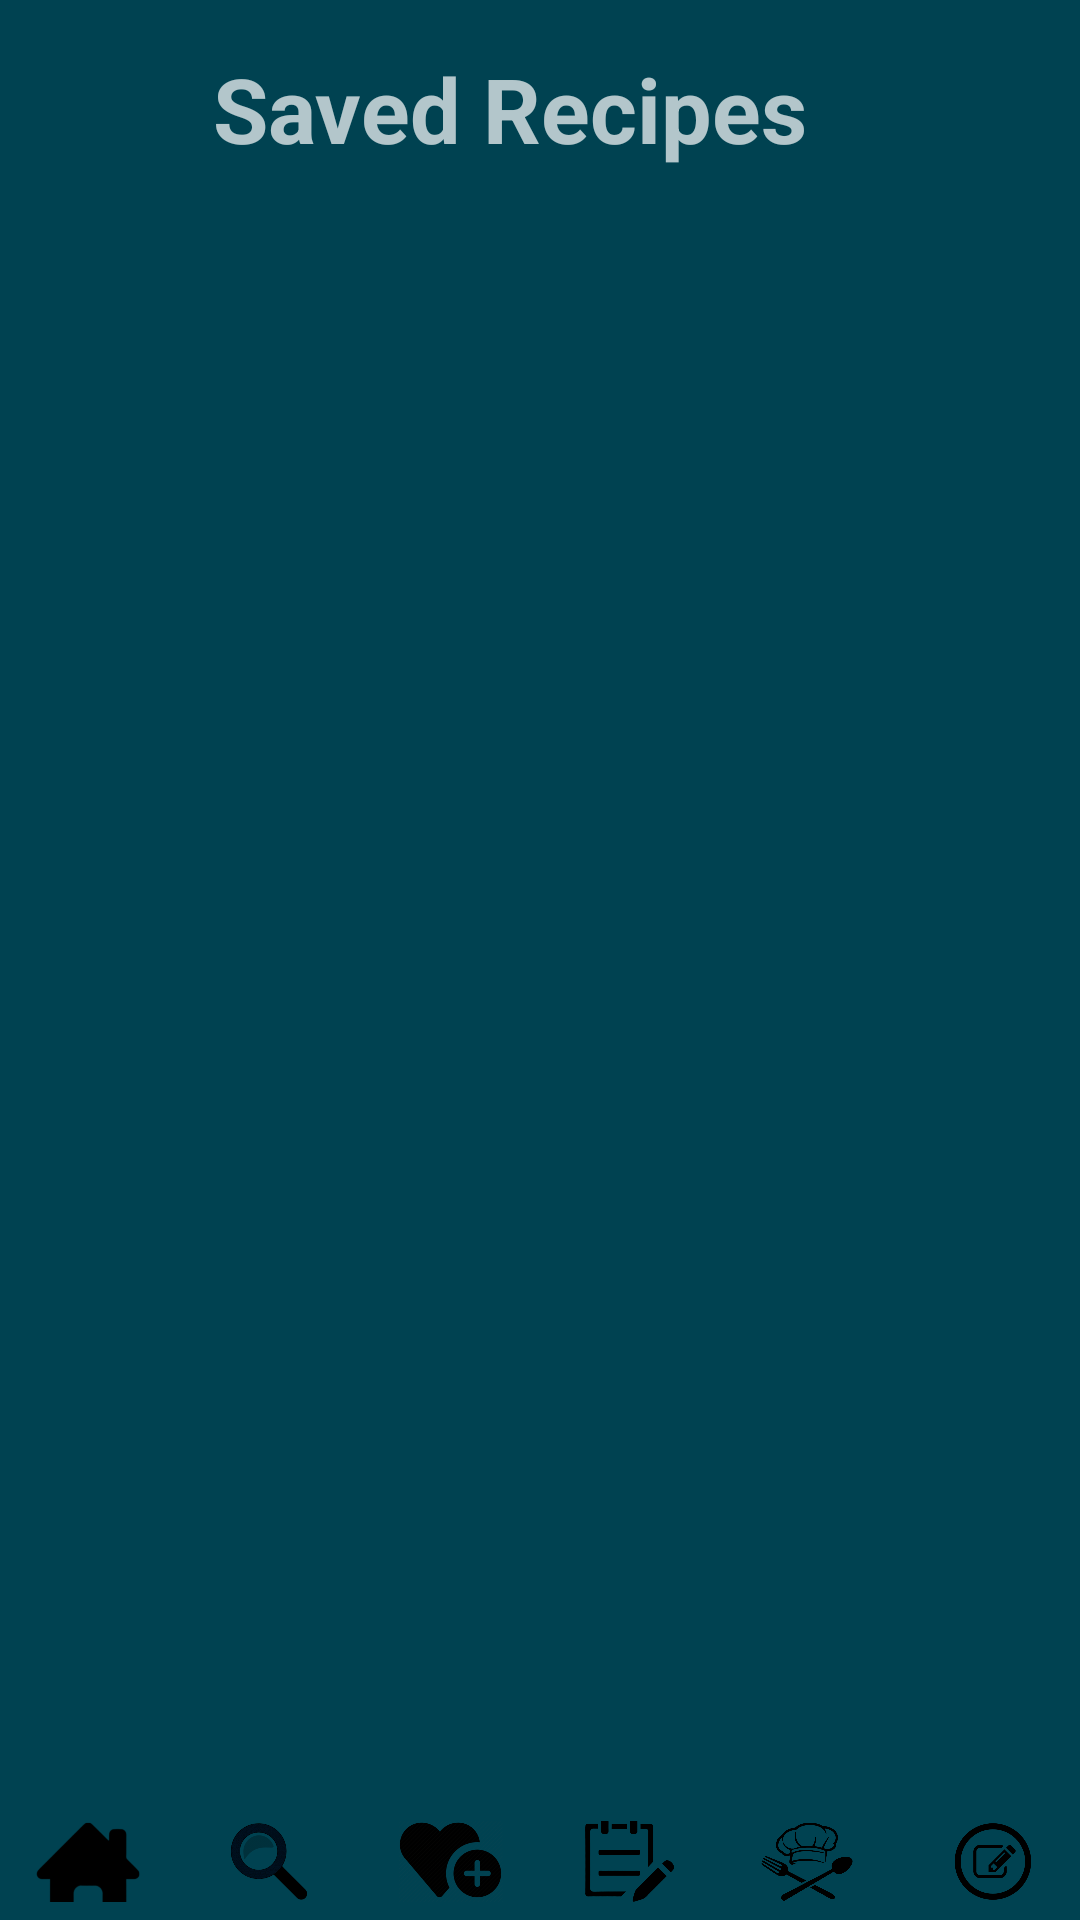

Named icons in this screenshot (1080*1920) and their bounding boxes, [x1,y1,x2,y2]:
chef: [762,1823,853,1901]
home: [37,1823,139,1902]
reviews: [955,1823,1031,1900]
saved: [400,1823,501,1897]
